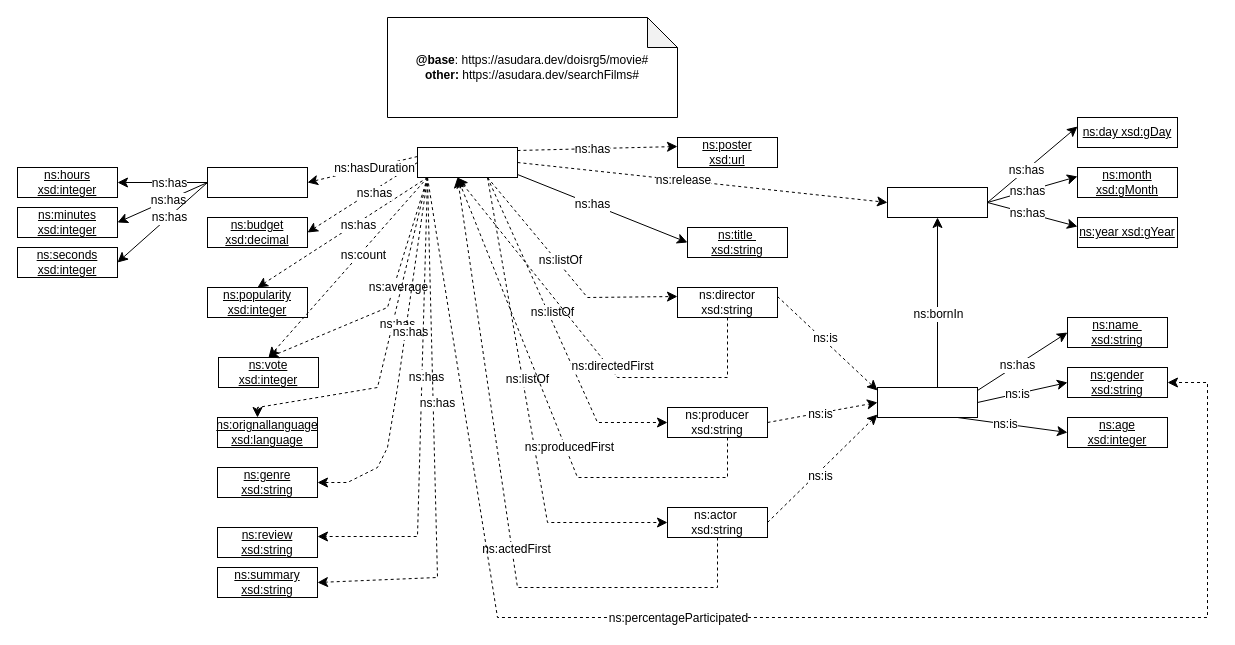
This 1235x645 diagram has some shape labels left out. Here are the shapes that lost their labels. From the top down, the centre of each, then its label:
At (257,182): "ns:time xsd:time".
At (467,162): "ns:movie xsd:string".
At (937,202): "ns:date xsd:date".
At (927,402): "ns:person xsd:string".
